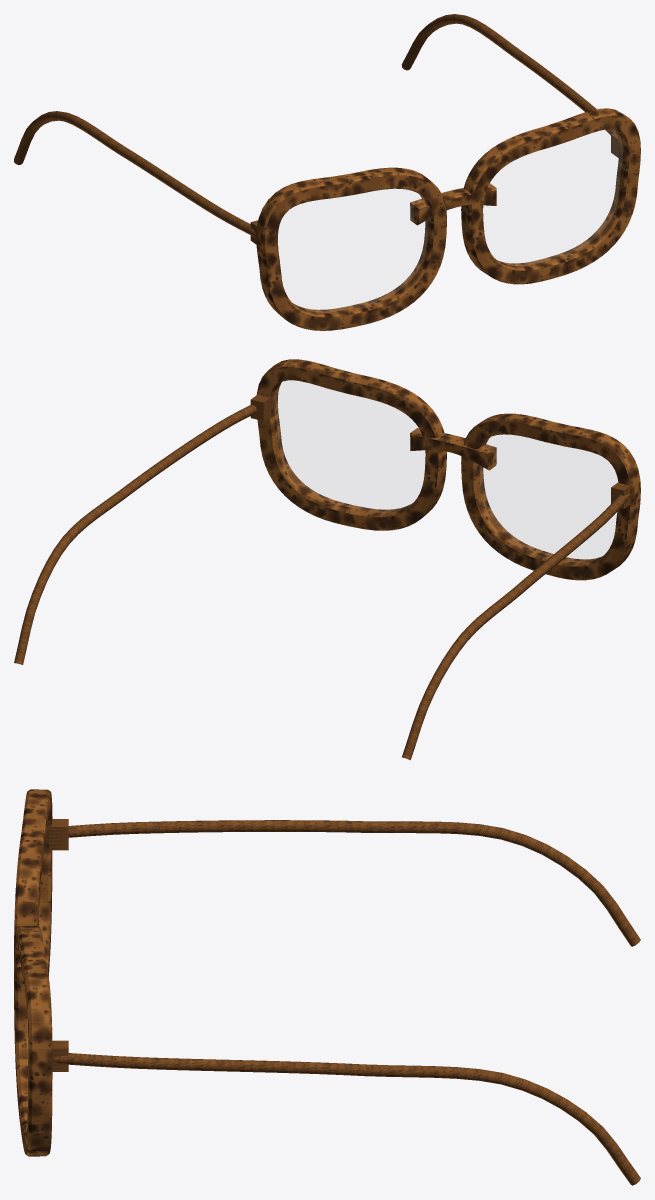
Rendered from NY-W01_Mira_Havana_tortoise.glb.
The picture shows the model from 3 angles, top to bottom: view 1: azimuth 30°, elevation 25°; view 2: azimuth 150°, elevation 25°; view 3: azimuth 270°, elevation 25°; orthographic projection. The views are drawn at different scales.
Visible parts, largest first — view 1: Mira_Havana_tortoise_Acetate, Mira_Havana_tortoise_Lenses; view 2: Mira_Havana_tortoise_Acetate, Mira_Havana_tortoise_Lenses; view 3: Mira_Havana_tortoise_Acetate.
Boxes of the visible parts, x1=… form: Mira_Havana_tortoise_Acetate: x1=14, y1=14, x2=640, y2=330; Mira_Havana_tortoise_Lenses: x1=278, y1=130, x2=621, y2=311; Mira_Havana_tortoise_Acetate: x1=14, y1=359, x2=640, y2=760; Mira_Havana_tortoise_Lenses: x1=275, y1=381, x2=617, y2=561; Mira_Havana_tortoise_Acetate: x1=14, y1=789, x2=640, y2=1185.
Bounding box in the file's own units: 0.1424 × 0.0503 × 0.1509.
Materials: 2 (1 with a texture image).
